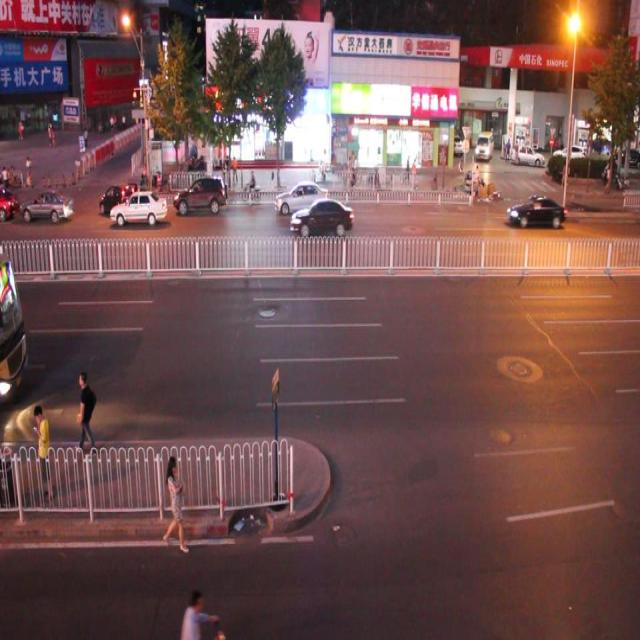car: (289, 196, 355, 239), (506, 192, 565, 233), (274, 178, 329, 221), (171, 175, 226, 216), (20, 186, 76, 225), (111, 190, 168, 226), (101, 180, 145, 223)
